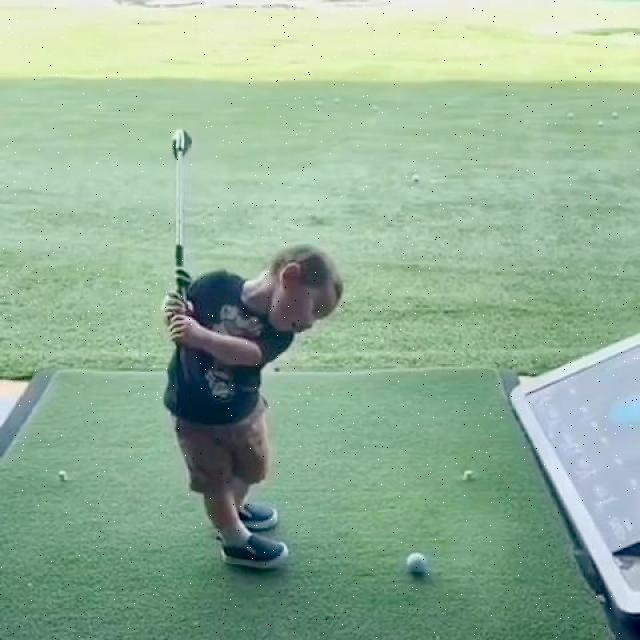ClubHead: (170, 129, 194, 157)
GolfBall: (408, 550, 430, 574)
